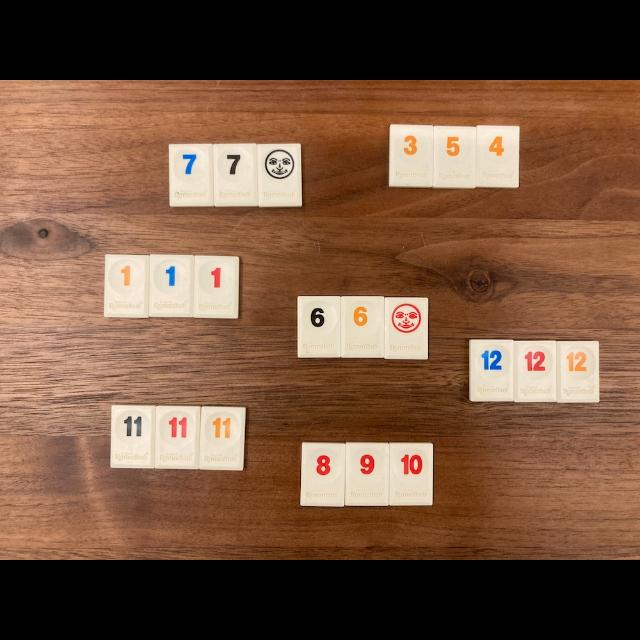black_11: (110, 407, 156, 469)
black_6: (298, 296, 341, 358)
black_7: (214, 144, 258, 206)
blue_1: (149, 256, 194, 318)
blue_12: (470, 340, 514, 401)
blue_7: (170, 144, 213, 206)
joker: (384, 298, 429, 360), (259, 144, 301, 206)
orange_1: (104, 256, 150, 318)
orange_11: (199, 406, 246, 471)
orange_12: (558, 341, 599, 402)
orange_3: (389, 126, 434, 188)
orange_4: (476, 125, 520, 188)
orange_5: (432, 127, 476, 189)
orange_6: (341, 296, 384, 358)
red_1: (194, 256, 239, 319)
red_10: (389, 443, 432, 505)
red_11: (155, 407, 200, 469)
red_12: (514, 341, 556, 401)
red_8: (300, 442, 345, 506)
red_9: (345, 443, 389, 506)
